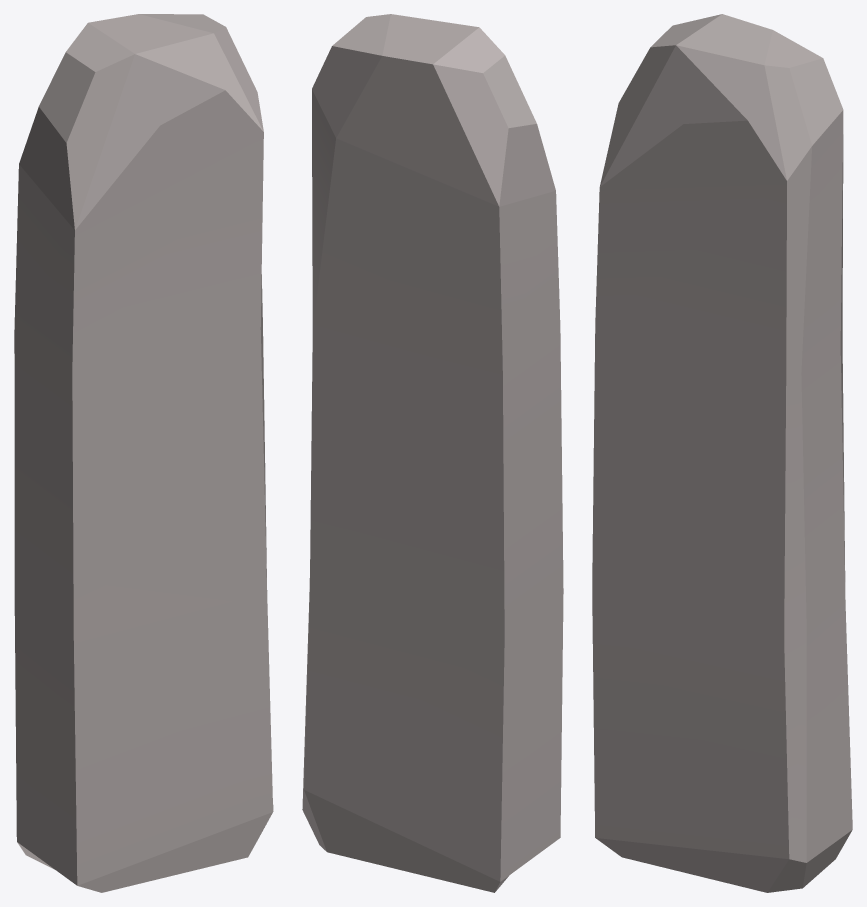
File: StoneHenge_Stone6.fbx
3 renders of one model, left to right at view 1: azimuth 30°, elevation 25°; view 2: azimuth 150°, elevation 25°; view 3: azimuth 330°, elevation 25°, orthographic.
Parts seen in each view (by area): view 1: StoneHenge_Stone6; view 2: StoneHenge_Stone6; view 3: StoneHenge_Stone6.
Boxes of the visible parts, left/top/right/bottom form: StoneHenge_Stone6: left=14, top=14, right=273, bottom=892; StoneHenge_Stone6: left=302, top=14, right=563, bottom=892; StoneHenge_Stone6: left=592, top=14, right=852, bottom=892.
Size of the model in its own units: 83.37 by 42.16 by 315.
